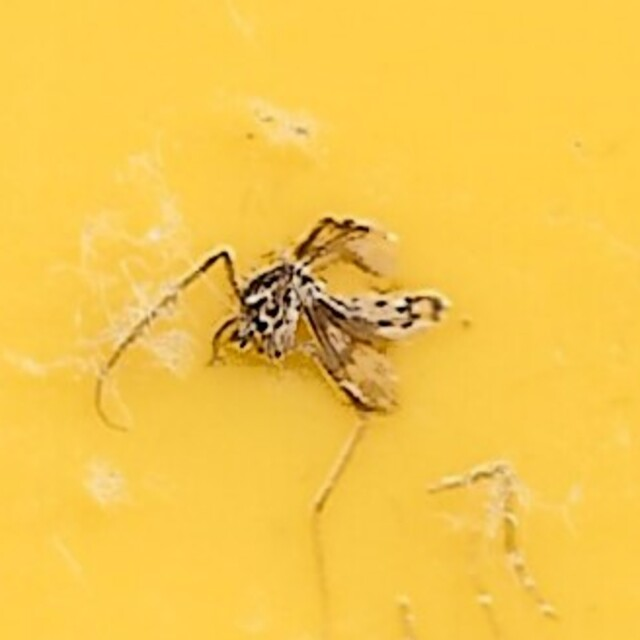Nematocera: (195, 213, 445, 427)
